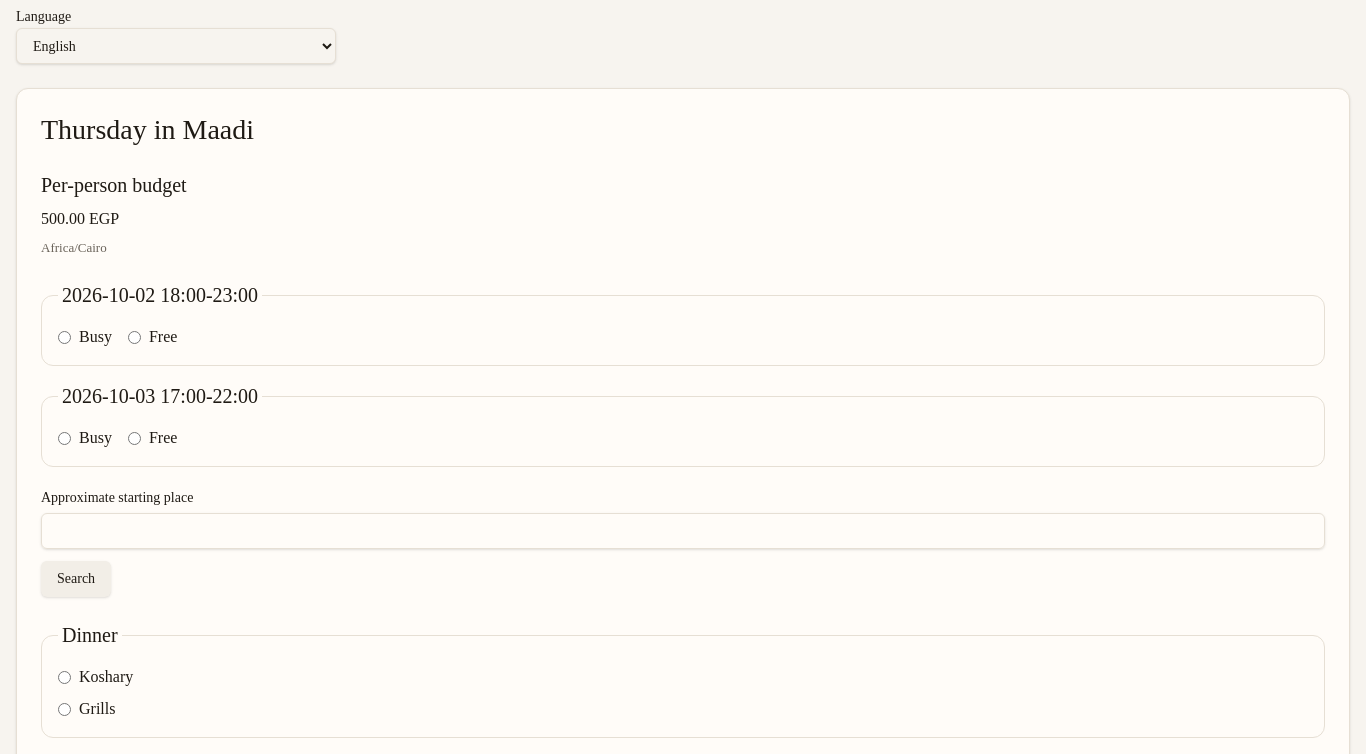
Test case: ResponseForm › a save answered 409 attempt_in_progress reloads while mounted and shows the reloaded form
expect the search field labelled "Approximate starting place" is shown: met, box [41, 513, 1325, 549]
Click the radio button labelled "Busy" below "2026-10-02": point(64, 337) [58, 330, 71, 344]
(page scrolled)
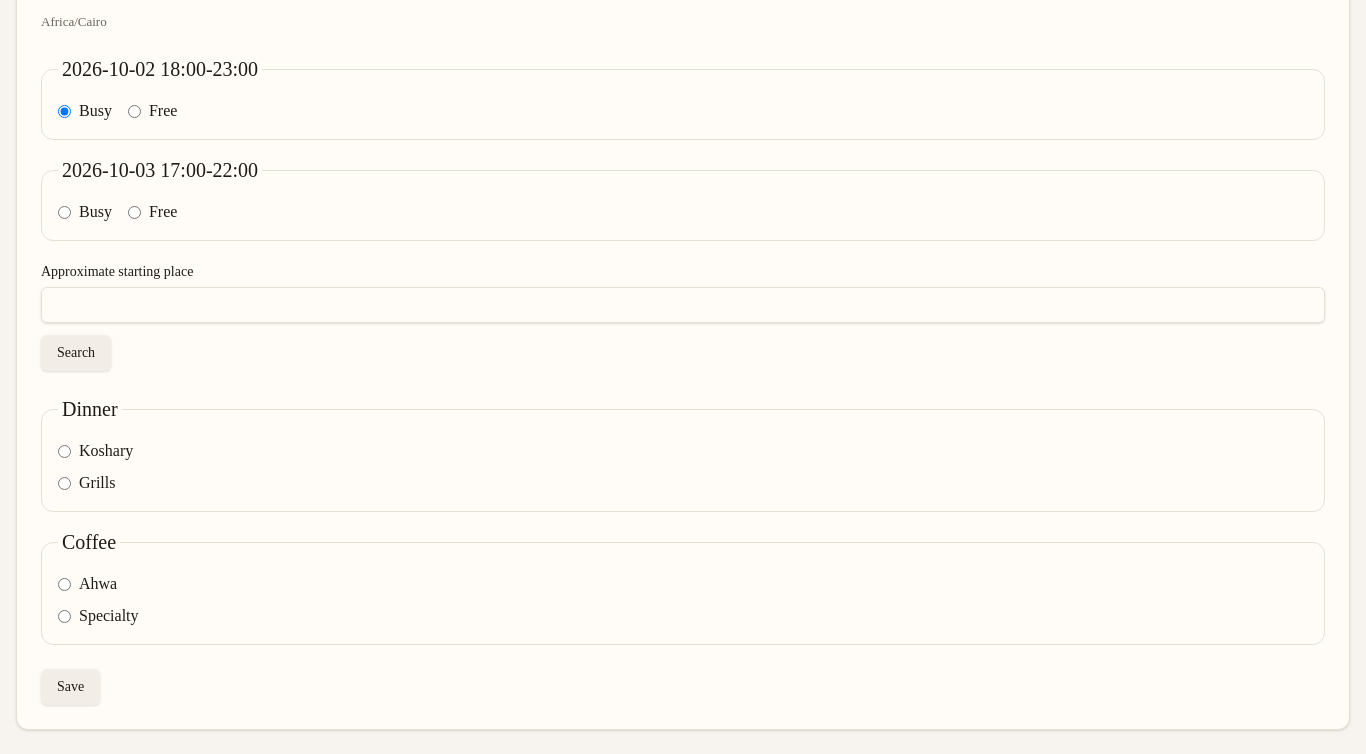
Click the button "Save": point(71, 687) [41, 669, 100, 705]
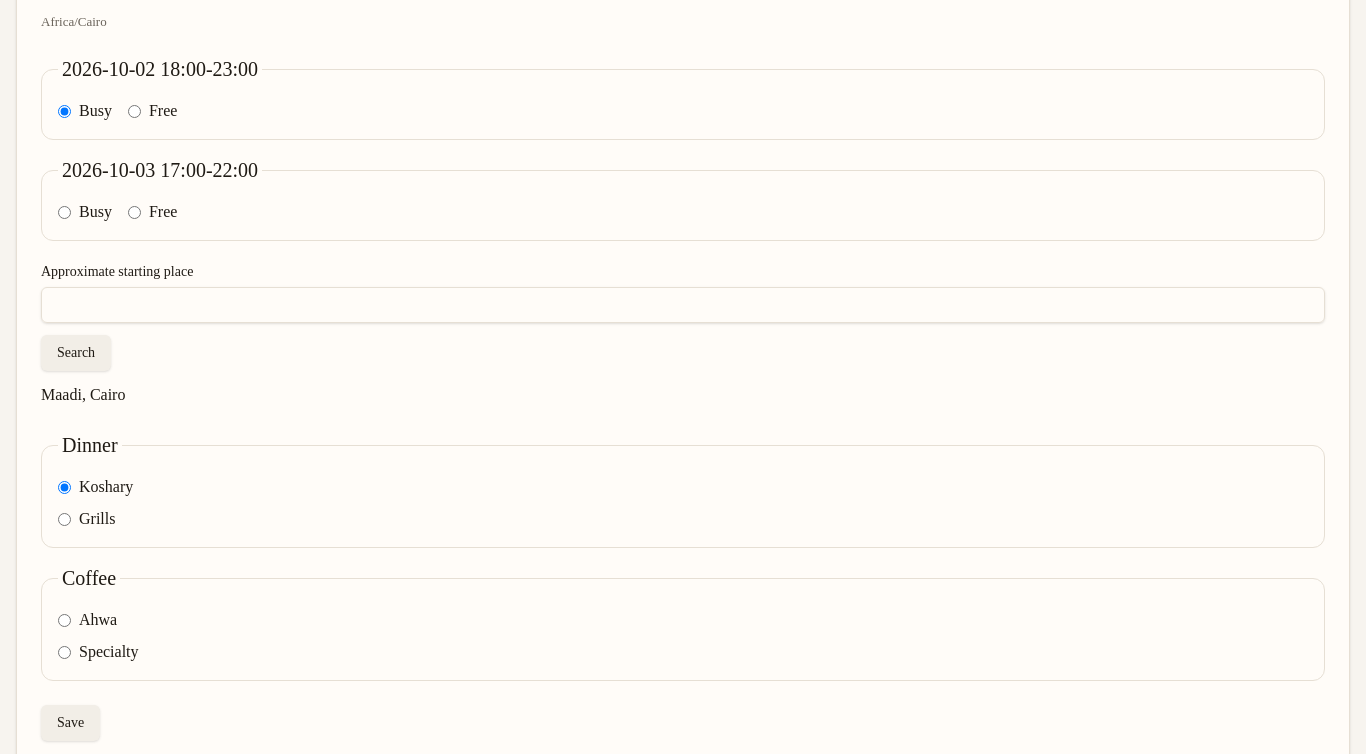
expect the text "Maadi, Cairo" is shown: met, box [41, 386, 125, 403]
